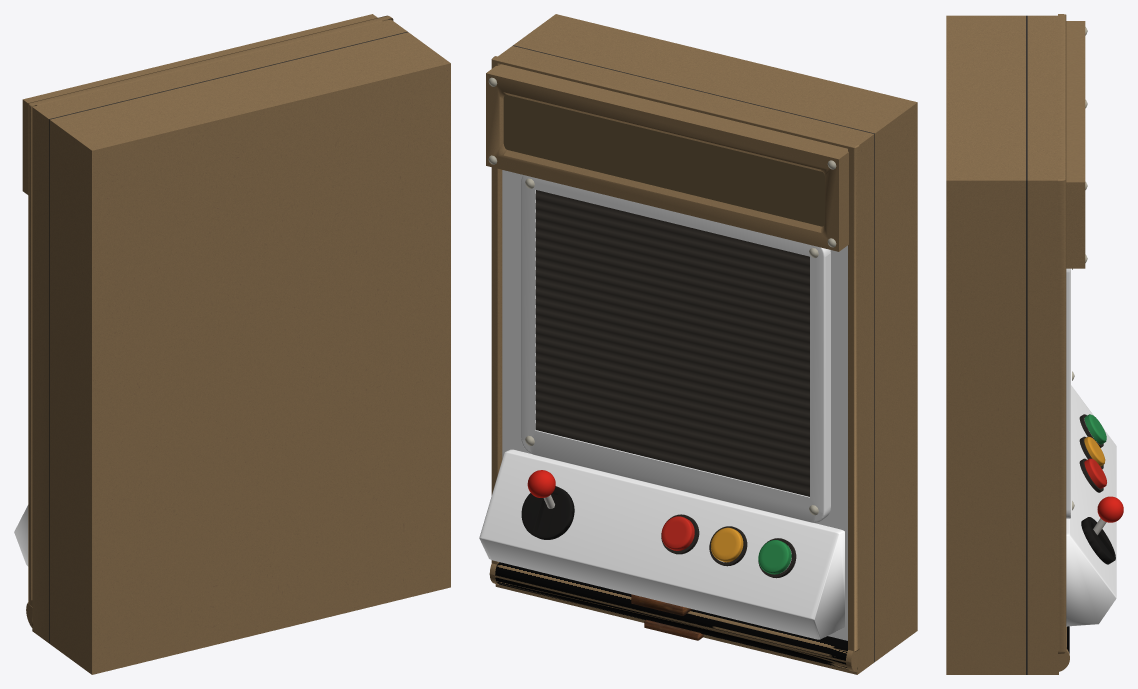
File: ArcadeCabinetDieselpunk.glb
3 views of the same model, side by side, from view 1: azimuth 30°, elevation 25°; view 2: azimuth 150°, elevation 25°; view 3: azimuth 270°, elevation 25° (orthographic). The views are drawn at different scales.
Parts seen in each view (by area): view 1: arcade_main_box, arcade_front_frame, marquee_emissive_frame; view 2: screen, arcade_main_box, control_panel, marquee_emissive_frame, screen_frame, marquee_emissive, arcade_front_frame, arcade_main_box_front, base_plinth, Joystick_base_black_plastic, button_1_red, button_3_blue (+1 smaller); view 3: arcade_main_box, control_panel, arcade_front_frame, marquee_emissive_frame, screen_frame, Joystick_base_black_plastic, joystick_ball_red, button_1_red, button_3_blue, button_2_green.
Boxes of the visible parts, x1,y1,x2,y2 form: arcade_main_box: [26, 19, 450, 674]; arcade_front_frame: [28, 15, 393, 607]; marquee_emissive_frame: [22, 14, 377, 194]; screen: [535, 190, 809, 496]; arcade_main_box: [495, 14, 917, 674]; control_panel: [479, 449, 844, 639]; marquee_emissive_frame: [486, 64, 848, 251]; screen_frame: [521, 175, 830, 522]; marquee_emissive: [503, 94, 824, 226]; arcade_front_frame: [491, 56, 859, 651]; arcade_main_box_front: [502, 170, 847, 640]; base_plinth: [495, 562, 847, 669]; Joystick_base_black_plastic: [521, 486, 574, 539]; button_1_red: [661, 516, 694, 550]; button_3_blue: [758, 540, 791, 574]; arcade_main_box: [946, 15, 1069, 674]; control_panel: [1066, 385, 1116, 626]; arcade_front_frame: [1058, 14, 1066, 653]; marquee_emissive_frame: [1066, 21, 1085, 268]; screen_frame: [1066, 268, 1070, 518]; Joystick_base_black_plastic: [1081, 517, 1115, 564]; joystick_ball_red: [1097, 496, 1123, 522]; button_1_red: [1084, 458, 1106, 488]; button_3_blue: [1084, 414, 1106, 444]; button_2_green: [1084, 436, 1105, 466].
Size of the model in its own units: 3.29 by 4.57 by 1.48.
23 materials, 7 textured.
